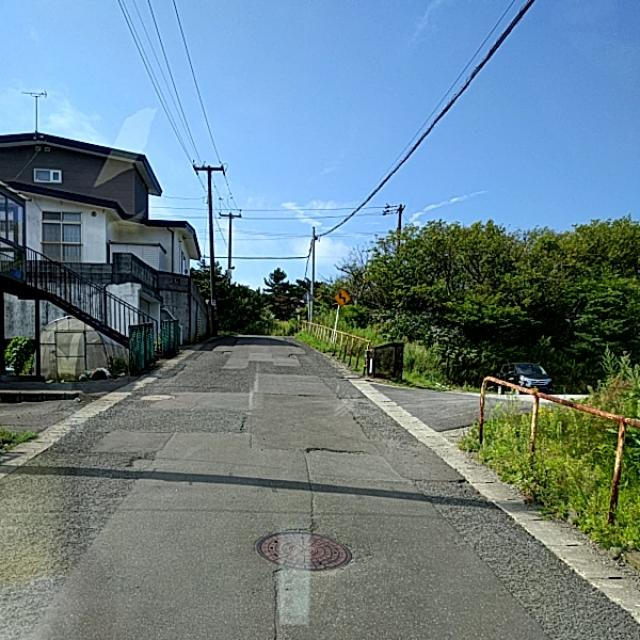pothole: (296, 454, 316, 525)
